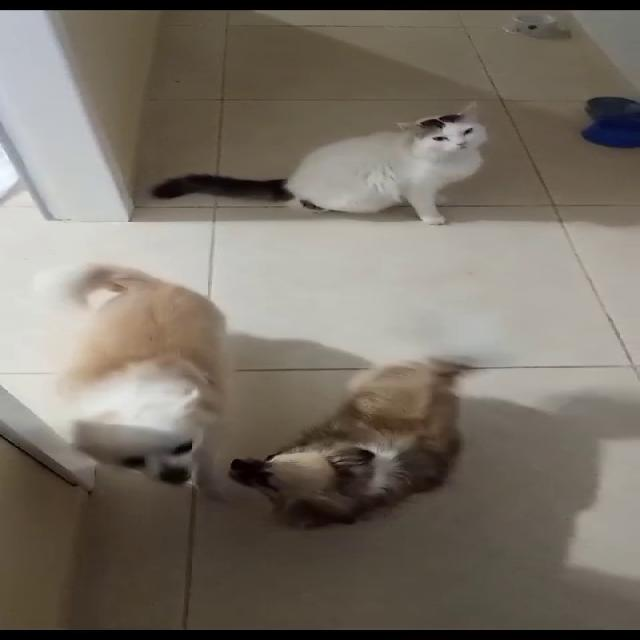Pedrita: (214, 312, 526, 547)
Simba: (262, 106, 564, 215)
Theo: (36, 245, 268, 535)
